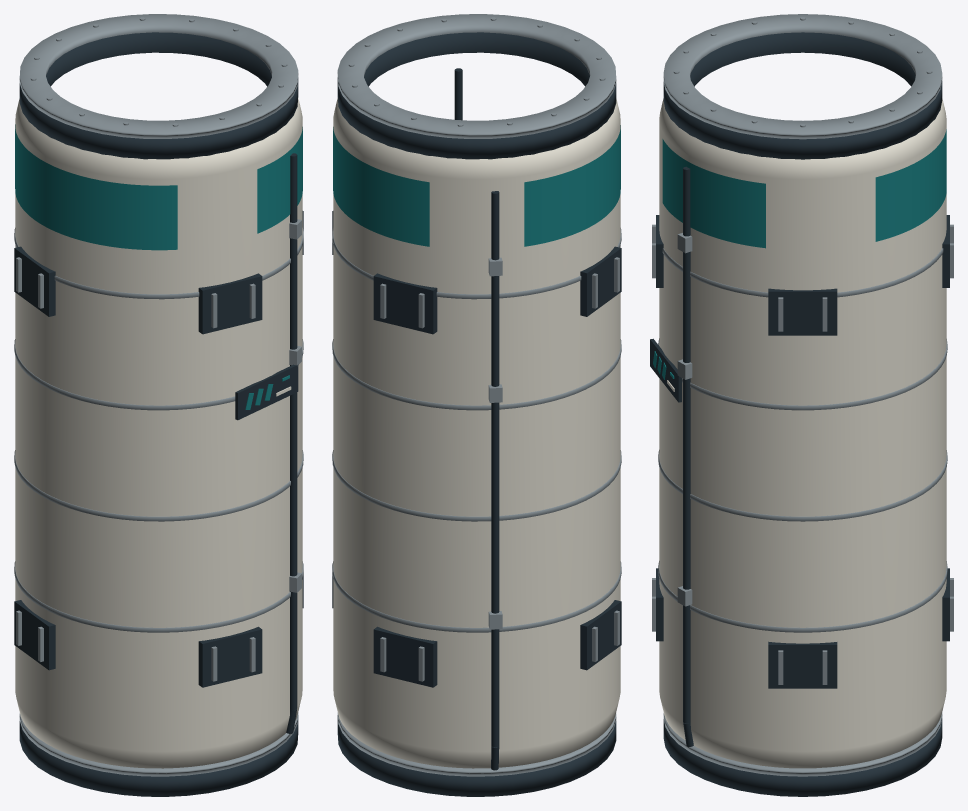
The model's file is b_32_stvol.glb.
3 views of the same model, side by side, from view 1: azimuth 30°, elevation 25°; view 2: azimuth 150°, elevation 25°; view 3: azimuth 270°, elevation 25° (orthographic).
Parts seen in each view (by area): view 1: b_32_stvol.pressure_shell.mesh_JUGRE_·_bone_ceramic, b_32_stvol.mesh_JUGRE_·_graphite_composite, b_32_stvol.mesh_JUGRE_·_bead-blasted_titanium, b_32_stvol.pressure_shell.mesh_JUGRE_·_signal_teal, b_32_stvol.pressure_shell.mesh_JUGRE_·_bead-blasted_titanium, b_32_stvol.feedline_a.mesh_JUGRE_·_graphite_composite, b_32_stvol.rail_1_01.mesh_JUGRE_·_graphite_composite, b_32_stvol.rail_2_01.mesh_JUGRE_·_graphite_composite, b_32_stvol.mark_0_32.mesh_JUGRE_·_graphite_composite, b_32_stvol.rail_1_04.mesh_JUGRE_·_graphite_composite, b_32_stvol.rail_2_04.mesh_JUGRE_·_graphite_composite, b_32_stvol.feedline_a.mesh_JUGRE_·_bead-blasted_titanium; view 2: b_32_stvol.pressure_shell.mesh_JUGRE_·_bone_ceramic, b_32_stvol.mesh_JUGRE_·_graphite_composite, b_32_stvol.mesh_JUGRE_·_bead-blasted_titanium, b_32_stvol.pressure_shell.mesh_JUGRE_·_signal_teal, b_32_stvol.pressure_shell.mesh_JUGRE_·_bead-blasted_titanium, b_32_stvol.feedline_b.mesh_JUGRE_·_graphite_composite, b_32_stvol.rail_1_03.mesh_JUGRE_·_graphite_composite, b_32_stvol.rail_2_03.mesh_JUGRE_·_graphite_composite, b_32_stvol.rail_1_04.mesh_JUGRE_·_graphite_composite, b_32_stvol.rail_2_04.mesh_JUGRE_·_graphite_composite, b_32_stvol.feedline_b.mesh_JUGRE_·_bead-blasted_titanium; view 3: b_32_stvol.pressure_shell.mesh_JUGRE_·_bone_ceramic, b_32_stvol.mesh_JUGRE_·_graphite_composite, b_32_stvol.mesh_JUGRE_·_bead-blasted_titanium, b_32_stvol.pressure_shell.mesh_JUGRE_·_signal_teal, b_32_stvol.pressure_shell.mesh_JUGRE_·_bead-blasted_titanium, b_32_stvol.feedline_a.mesh_JUGRE_·_graphite_composite, b_32_stvol.rail_2_02.mesh_JUGRE_·_graphite_composite, b_32_stvol.rail_1_02.mesh_JUGRE_·_graphite_composite, b_32_stvol.mark_0_32.mesh_JUGRE_·_graphite_composite, b_32_stvol.feedline_a.mesh_JUGRE_·_bead-blasted_titanium.
Part boxes in pixels (left/top/right/bottom): b_32_stvol.pressure_shell.mesh_JUGRE_·_bone_ceramic: left=15, top=98, right=302, bottom=768; b_32_stvol.mesh_JUGRE_·_graphite_composite: left=19, top=32, right=298, bottom=796; b_32_stvol.mesh_JUGRE_·_bead-blasted_titanium: left=19, top=14, right=298, bottom=776; b_32_stvol.pressure_shell.mesh_JUGRE_·_signal_teal: left=15, top=124, right=302, bottom=250; b_32_stvol.pressure_shell.mesh_JUGRE_·_bead-blasted_titanium: left=14, top=228, right=303, bottom=632; b_32_stvol.feedline_a.mesh_JUGRE_·_graphite_composite: left=286, top=153, right=297, bottom=733; b_32_stvol.rail_1_01.mesh_JUGRE_·_graphite_composite: left=198, top=626, right=262, bottom=687; b_32_stvol.rail_2_01.mesh_JUGRE_·_graphite_composite: left=198, top=273, right=262, bottom=334; b_32_stvol.mark_0_32.mesh_JUGRE_·_graphite_composite: left=235, top=364, right=298, bottom=420; b_32_stvol.rail_1_04.mesh_JUGRE_·_graphite_composite: left=14, top=600, right=55, bottom=670; b_32_stvol.rail_2_04.mesh_JUGRE_·_graphite_composite: left=14, top=246, right=55, bottom=316; b_32_stvol.feedline_a.mesh_JUGRE_·_bead-blasted_titanium: left=289, top=219, right=301, bottom=592; b_32_stvol.pressure_shell.mesh_JUGRE_·_bone_ceramic: left=333, top=98, right=620, bottom=768; b_32_stvol.mesh_JUGRE_·_graphite_composite: left=337, top=32, right=616, bottom=796; b_32_stvol.mesh_JUGRE_·_bead-blasted_titanium: left=337, top=14, right=616, bottom=776; b_32_stvol.pressure_shell.mesh_JUGRE_·_signal_teal: left=333, top=125, right=620, bottom=246; b_32_stvol.pressure_shell.mesh_JUGRE_·_bead-blasted_titanium: left=332, top=228, right=621, bottom=632; b_32_stvol.feedline_b.mesh_JUGRE_·_graphite_composite: left=491, top=191, right=499, bottom=770; b_32_stvol.rail_1_03.mesh_JUGRE_·_graphite_composite: left=373, top=626, right=437, bottom=687; b_32_stvol.rail_2_03.mesh_JUGRE_·_graphite_composite: left=373, top=273, right=437, bottom=334; b_32_stvol.rail_1_04.mesh_JUGRE_·_graphite_composite: left=580, top=600, right=621, bottom=670; b_32_stvol.rail_2_04.mesh_JUGRE_·_graphite_composite: left=580, top=246, right=621, bottom=316; b_32_stvol.feedline_b.mesh_JUGRE_·_bead-blasted_titanium: left=488, top=257, right=502, bottom=629; b_32_stvol.pressure_shell.mesh_JUGRE_·_bone_ceramic: left=659, top=98, right=946, bottom=768; b_32_stvol.mesh_JUGRE_·_graphite_composite: left=663, top=32, right=942, bottom=796; b_32_stvol.mesh_JUGRE_·_bead-blasted_titanium: left=663, top=14, right=942, bottom=776; b_32_stvol.pressure_shell.mesh_JUGRE_·_signal_teal: left=662, top=129, right=946, bottom=248; b_32_stvol.pressure_shell.mesh_JUGRE_·_bead-blasted_titanium: left=658, top=248, right=947, bottom=632; b_32_stvol.feedline_a.mesh_JUGRE_·_graphite_composite: left=683, top=166, right=693, bottom=746; b_32_stvol.rail_2_02.mesh_JUGRE_·_graphite_composite: left=768, top=288, right=837, bottom=335; b_32_stvol.rail_1_02.mesh_JUGRE_·_graphite_composite: left=768, top=641, right=837, bottom=688; b_32_stvol.mark_0_32.mesh_JUGRE_·_graphite_composite: left=650, top=338, right=681, bottom=402; b_32_stvol.feedline_a.mesh_JUGRE_·_bead-blasted_titanium: left=677, top=233, right=692, bottom=606.
Size of the model in its own units: 1.31 by 3.2 by 1.32.
